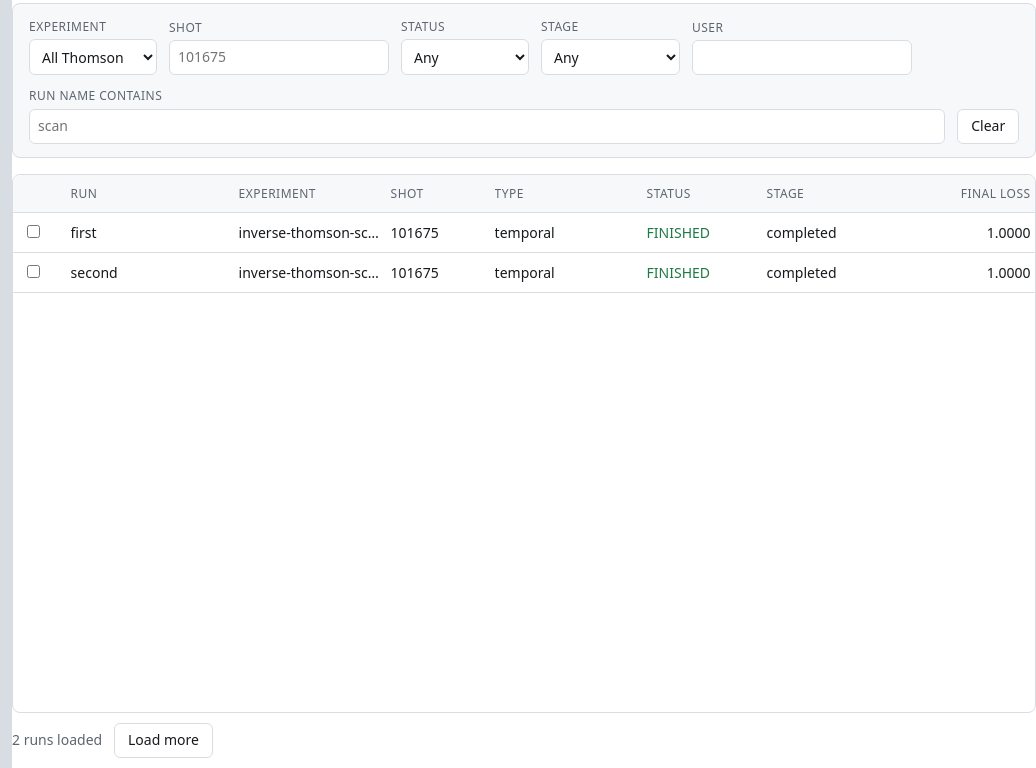
Test: a failed Load more keeps the pages already loaded › shows an inline error without discarding the table
(page scrolled)
Expected: the text "first" is shown, [71,222,97,242]
Click the button "Load more": click(163, 741) [114,723,213,758]
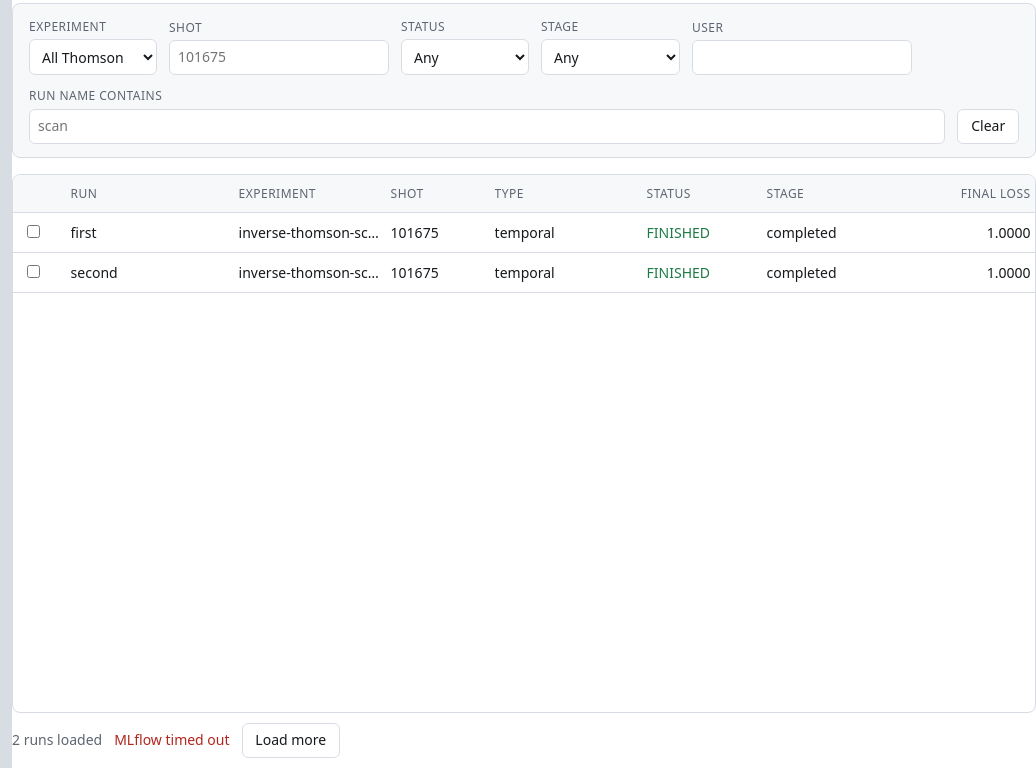
Expected: the text "first" is shown, [71,222,97,242]
Expected: the text "MLflow timed out" is shown, [114,730,230,751]
